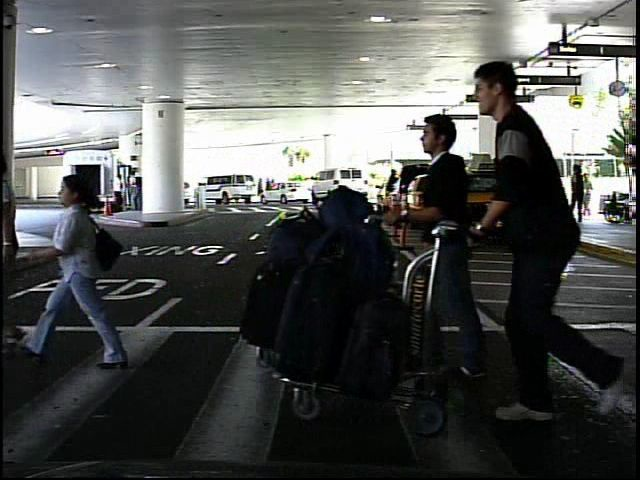person: (476, 48, 595, 425), (384, 109, 508, 384), (27, 157, 130, 382), (109, 171, 127, 221), (582, 170, 601, 217)
